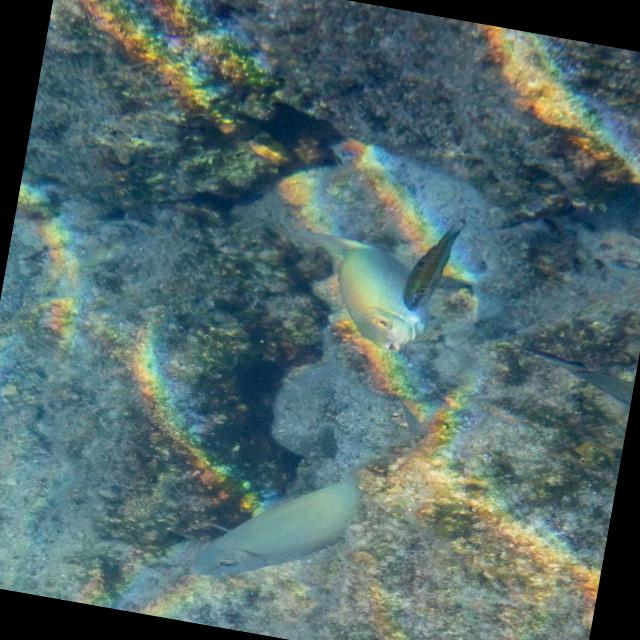Sokar Baligi: (146, 408, 422, 628), (392, 212, 480, 318)
